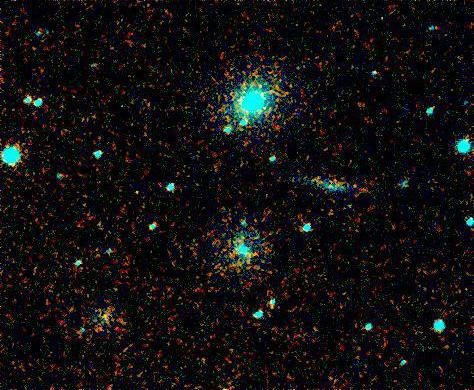star: (252, 297, 282, 327)
